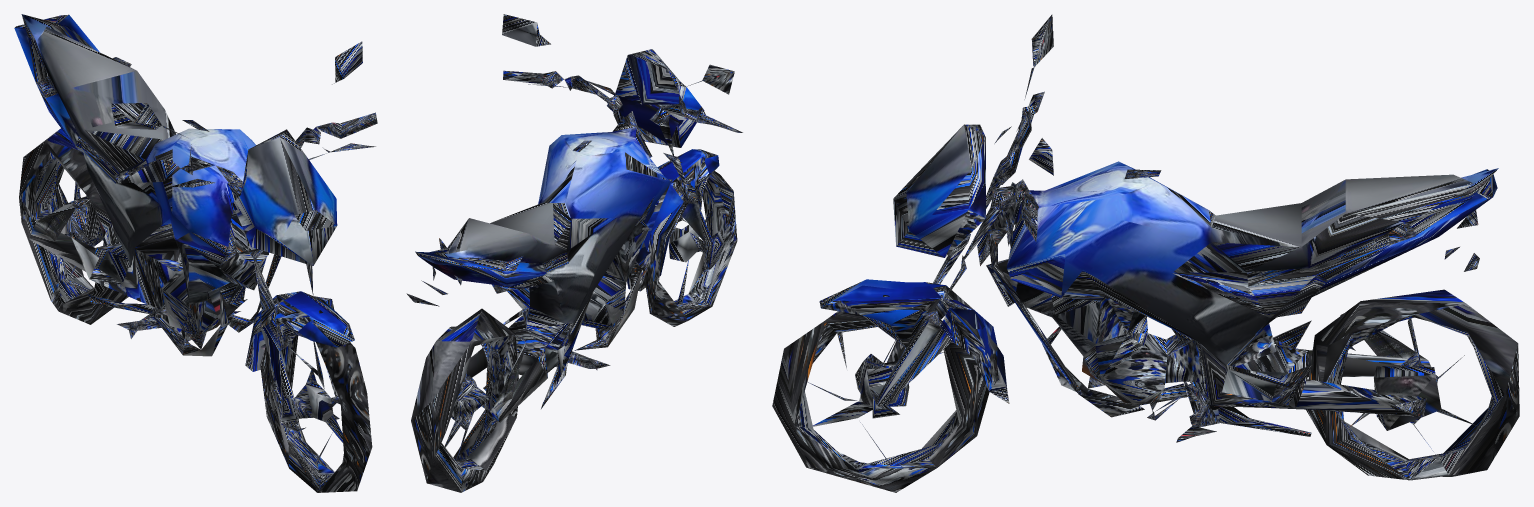
The model's file is sportbike.glb.
3 views of the same model, side by side, from view 1: azimuth 30°, elevation 25°; view 2: azimuth 150°, elevation 25°; view 3: azimuth 270°, elevation 25° (orthographic). The views are drawn at different scales.
Visible parts, largest first — view 1: tripo_node_01a2204e-44cf-7bd4-b4fc-ac74fba06929; view 2: tripo_node_01a2204e-44cf-7bd4-b4fc-ac74fba06929; view 3: tripo_node_01a2204e-44cf-7bd4-b4fc-ac74fba06929.
Boxes of the visible parts, <box> form: tripo_node_01a2204e-44cf-7bd4-b4fc-ac74fba06929: <box>14,14,377,492</box>; tripo_node_01a2204e-44cf-7bd4-b4fc-ac74fba06929: <box>406,14,742,492</box>; tripo_node_01a2204e-44cf-7bd4-b4fc-ac74fba06929: <box>772,14,1519,492</box>.
Bounding box in the file's own units: 0.4454 × 0.5937 × 0.9902.
1 material, 1 textured.
